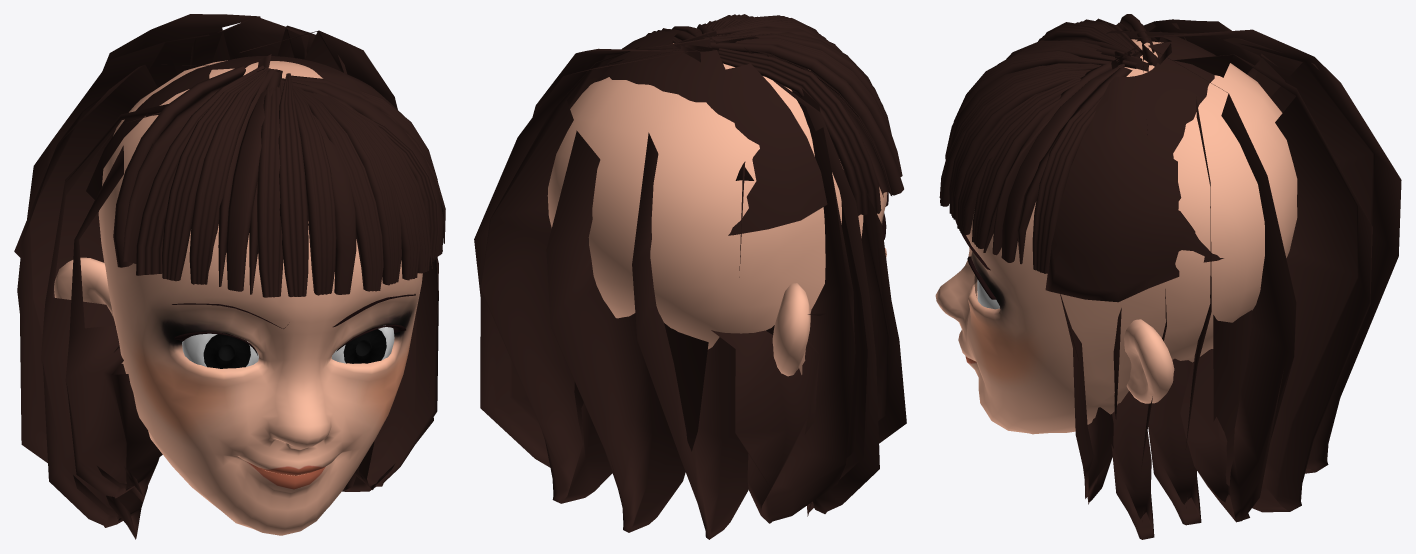
Rendered from fm-head.glb.
The picture shows the model from 3 angles, left to right: view 1: azimuth 30°, elevation 25°; view 2: azimuth 150°, elevation 25°; view 3: azimuth 270°, elevation 25°; orthographic projection. The views are drawn at different scales.
Parts seen in each view (by area): view 1: fm_hair, fm_head, fm_eyes, fm_eyebrow; view 2: fm_hair, fm_head; view 3: fm_hair, fm_head.
Boxes of the visible parts, x1=… form: fm_hair: x1=14, y1=14, x2=445, y2=539; fm_head: x1=54, y1=60, x2=422, y2=535; fm_eyes: x1=182, y1=325, x2=394, y2=368; fm_eyebrow: x1=172, y1=294, x2=415, y2=355; fm_hair: x1=474, y1=14, x2=906, y2=539; fm_head: x1=547, y1=43, x2=887, y2=376; fm_hair: x1=939, y1=14, x2=1401, y2=539; fm_head: x1=935, y1=39, x2=1297, y2=434.
Bounding box in the file's own units: 0.2664 × 0.3115 × 0.2938.
Materials: 7 (2 with a texture image).
